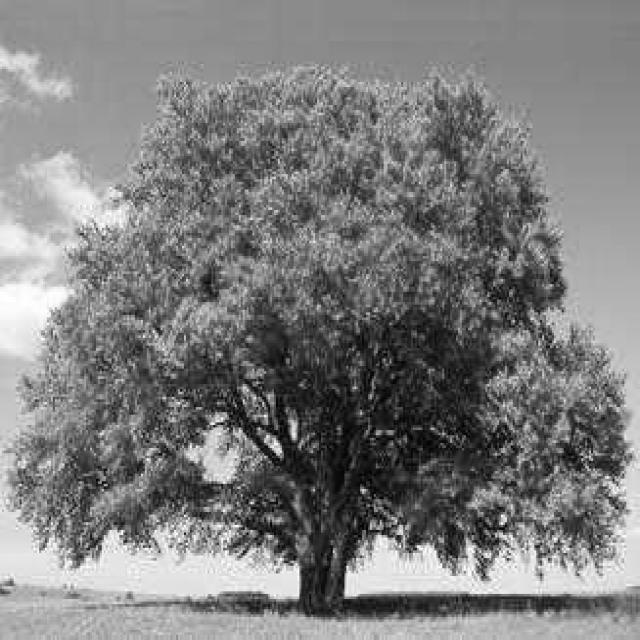Tree: (11, 70, 629, 611)
